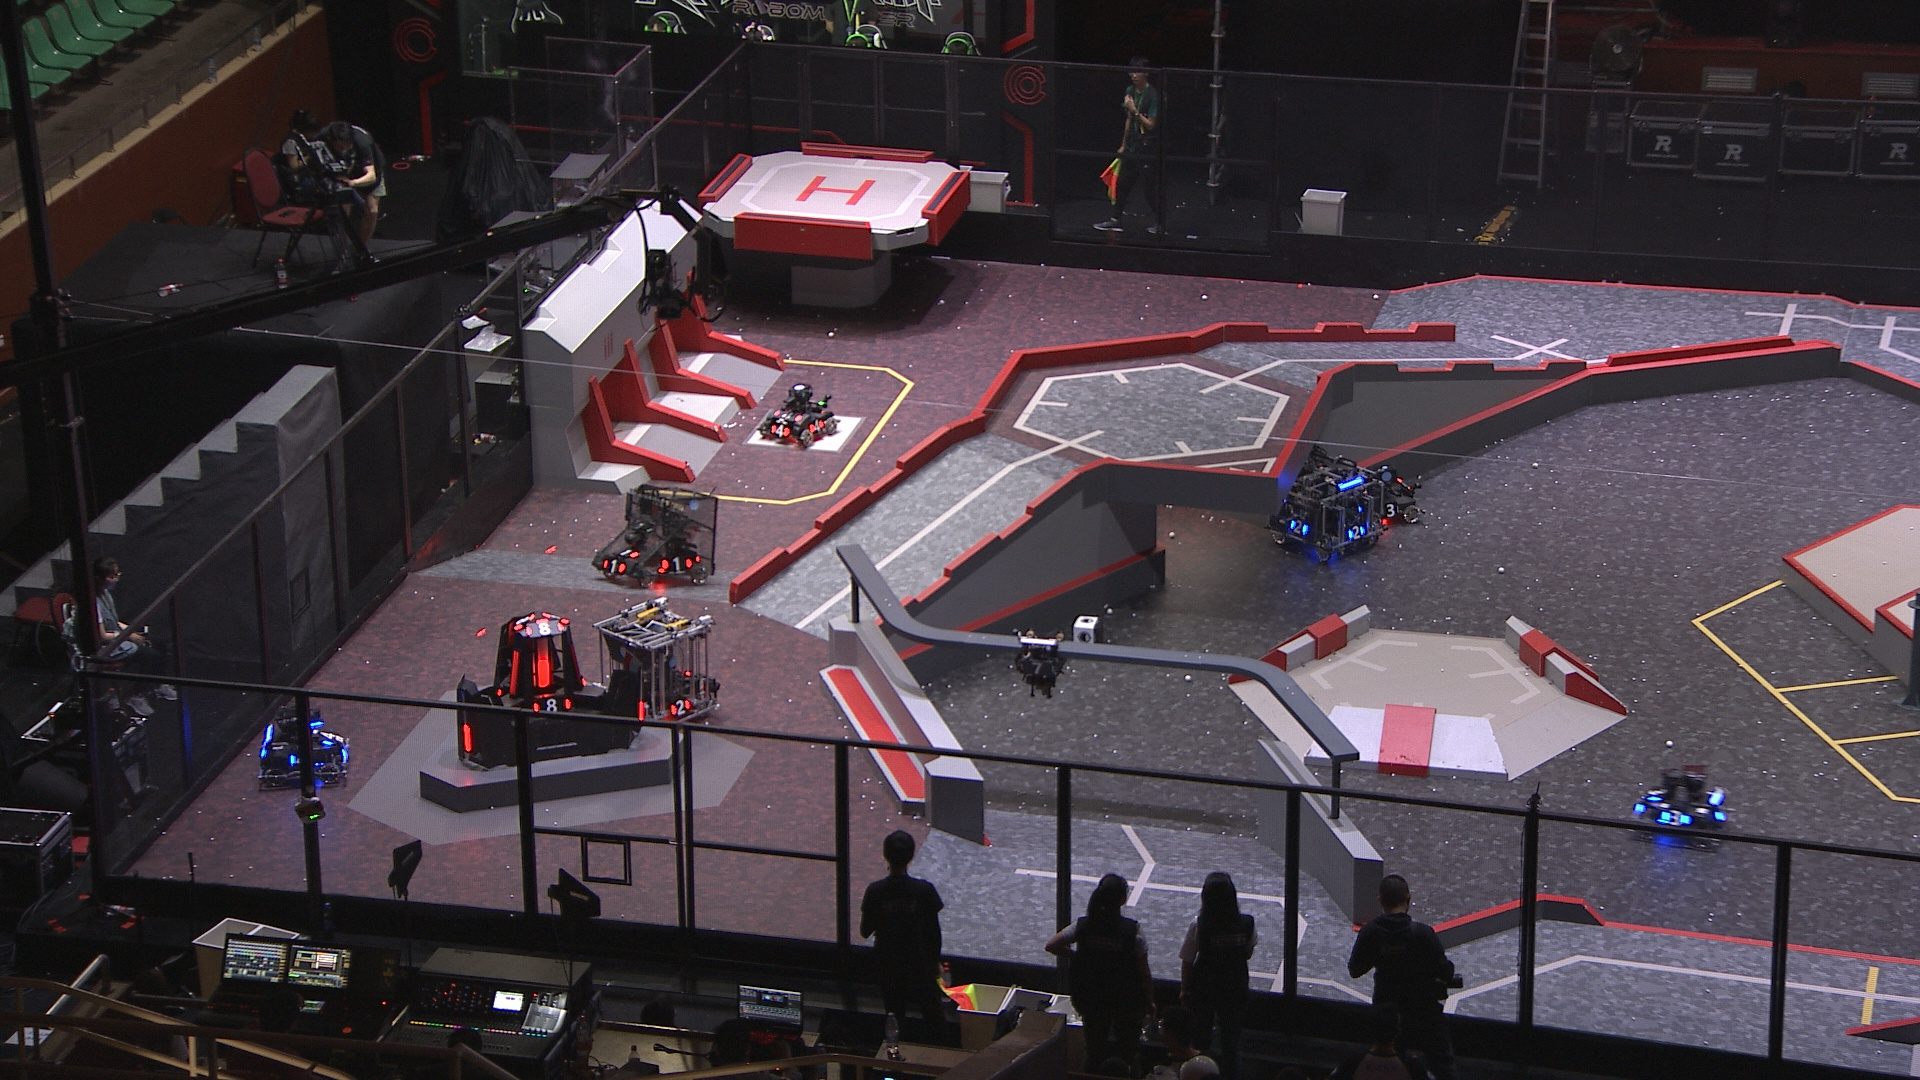armor: (661, 553, 692, 574), (1019, 661, 1058, 678), (533, 657, 553, 690), (531, 698, 571, 713), (506, 650, 520, 698), (666, 698, 694, 719), (1659, 808, 1688, 828), (524, 622, 562, 636), (512, 611, 533, 633), (1344, 524, 1367, 543), (1284, 518, 1307, 537), (1378, 502, 1400, 520), (320, 727, 338, 749), (1648, 785, 1665, 806), (603, 559, 624, 576), (613, 547, 638, 560), (462, 725, 472, 754), (767, 425, 790, 438), (773, 410, 800, 419), (808, 419, 825, 434), (636, 700, 645, 723)
base: (454, 609, 646, 767)
car: (585, 597, 723, 733), (1255, 442, 1385, 566), (588, 484, 721, 589), (257, 705, 357, 793), (1633, 761, 1733, 844), (1352, 460, 1429, 542), (760, 381, 839, 442)
watcher: (1011, 629, 1072, 699)
